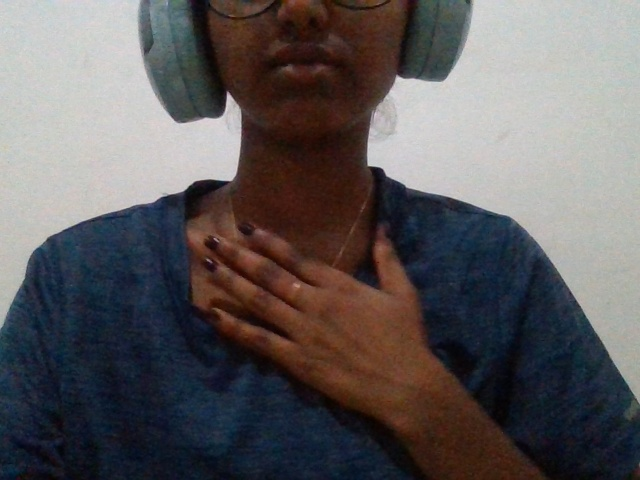Please: (158, 203, 482, 461)
